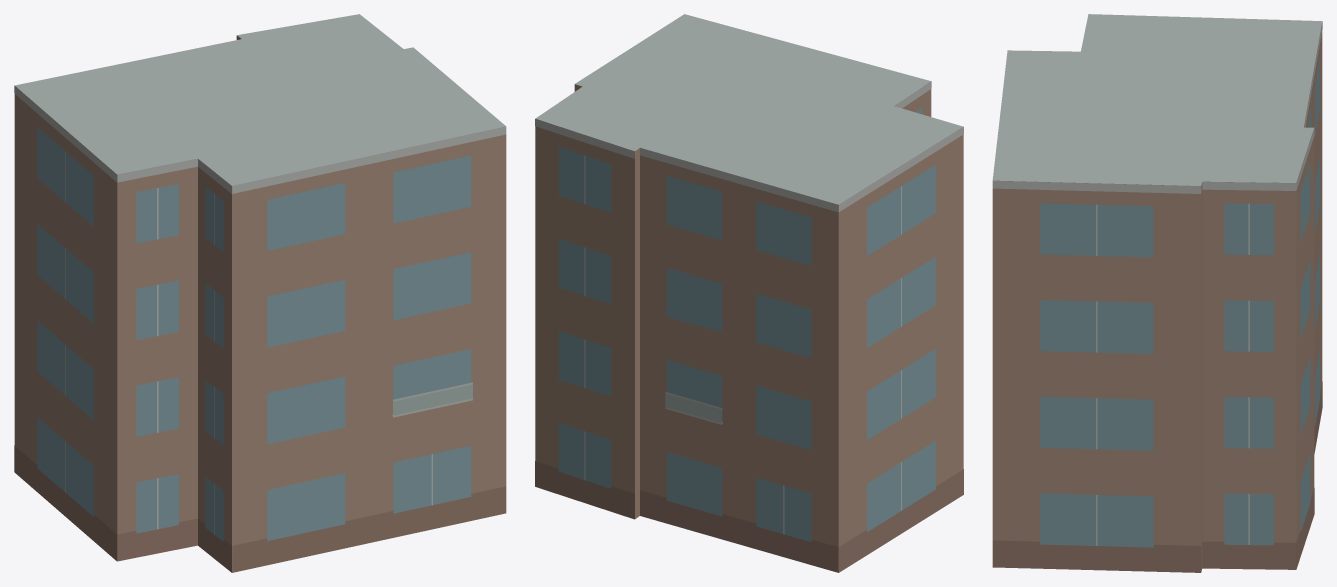
The model's file is survey-upis-32465815.glb.
The picture shows the model from 3 angles, left to right: view 1: azimuth 30°, elevation 25°; view 2: azimuth 150°, elevation 25°; view 3: azimuth 270°, elevation 25°; orthographic projection. The views are drawn at different scales.
Parts seen in each view (by area): view 1: survey-upis-32465815.tmp; view 2: survey-upis-32465815.tmp; view 3: survey-upis-32465815.tmp.
Part boxes in pixels (box(x1,y1,x2,y2)): survey-upis-32465815.tmp: box(14, 14, 506, 572); survey-upis-32465815.tmp: box(535, 14, 963, 572); survey-upis-32465815.tmp: box(992, 14, 1322, 572).
Size of the model in its own units: 11.27 by 11.8 by 9.13.
